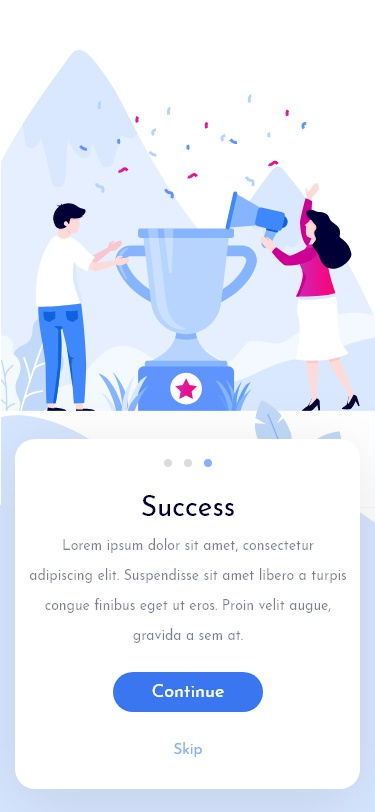Card: (14, 438, 362, 791)
Image: (1, 1, 375, 439)
PageIndicator: (162, 457, 214, 469)
Text: (29, 537, 347, 644), (142, 494, 235, 518), (174, 741, 203, 758)
TextButton: (113, 672, 264, 713)
